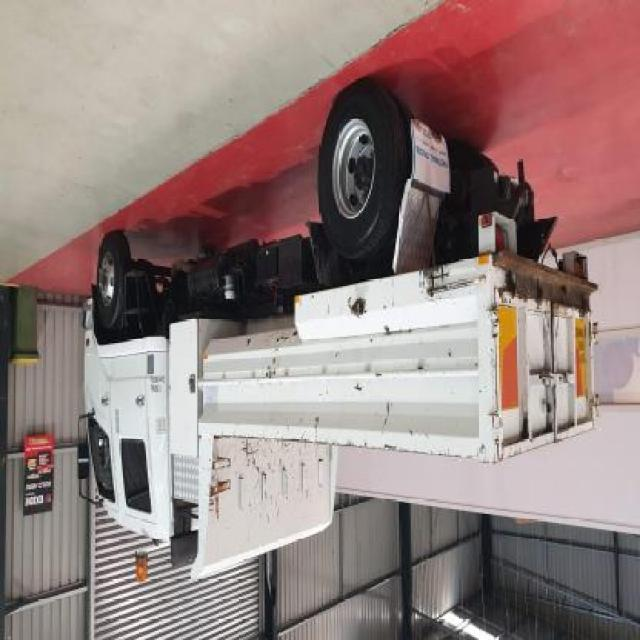truck: (80, 80, 600, 583)
